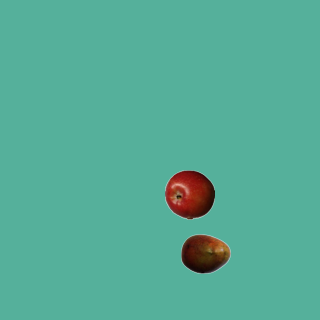Apple Braeburn: (164, 169, 214, 219)
Mango Red: (180, 228, 230, 278)
